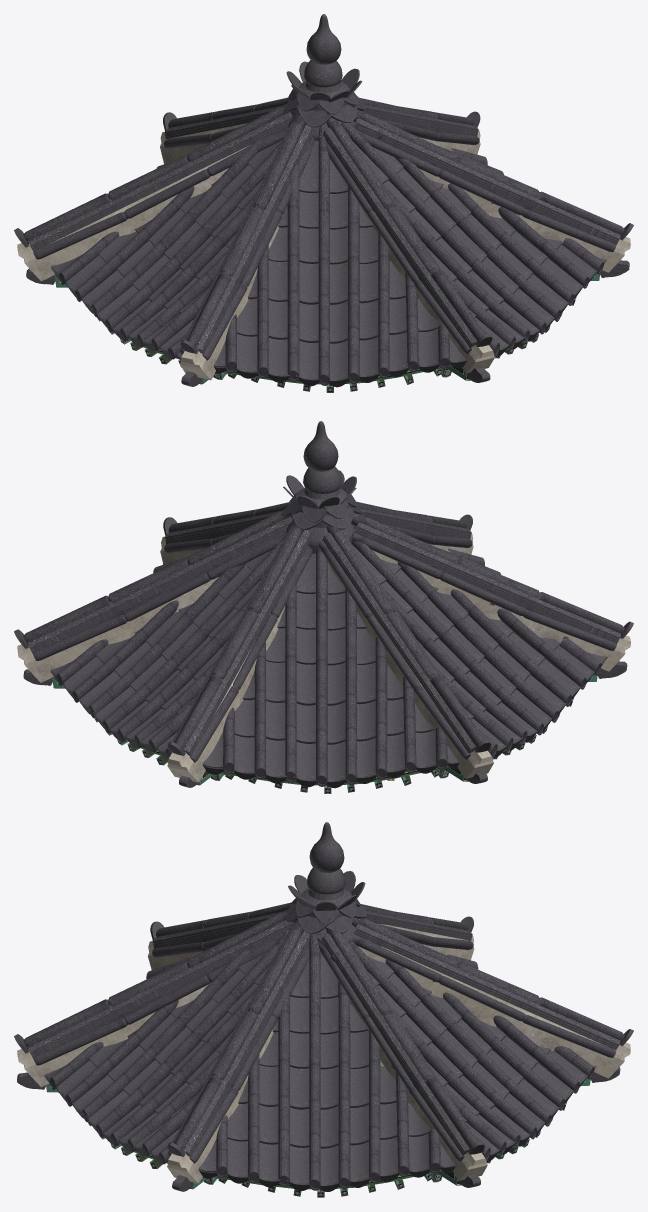
File: SM_R_Mirohanjeong.fbx
The picture shows the model from 3 angles, top to bottom: view 1: azimuth 30°, elevation 25°; view 2: azimuth 150°, elevation 25°; view 3: azimuth 270°, elevation 25°; orthographic projection.
Visible parts, largest first — view 1: SM_R_Mirohanjeong; view 2: SM_R_Mirohanjeong; view 3: SM_R_Mirohanjeong.
Boxes of the visible parts, x1,y1,x2,y2 form: SM_R_Mirohanjeong: [14, 14, 633, 392]; SM_R_Mirohanjeong: [14, 421, 633, 793]; SM_R_Mirohanjeong: [14, 822, 633, 1197].
Bounding box in the file's own units: 833 × 949 × 527.
Materials: 8 (8 with a texture image).
